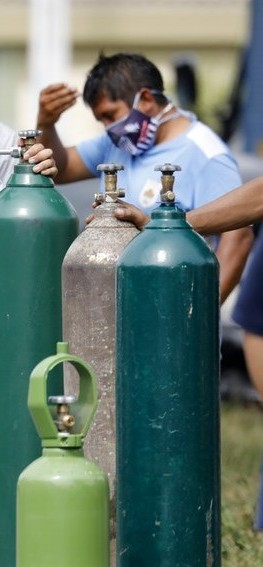with_mask: (84, 67, 170, 156)
